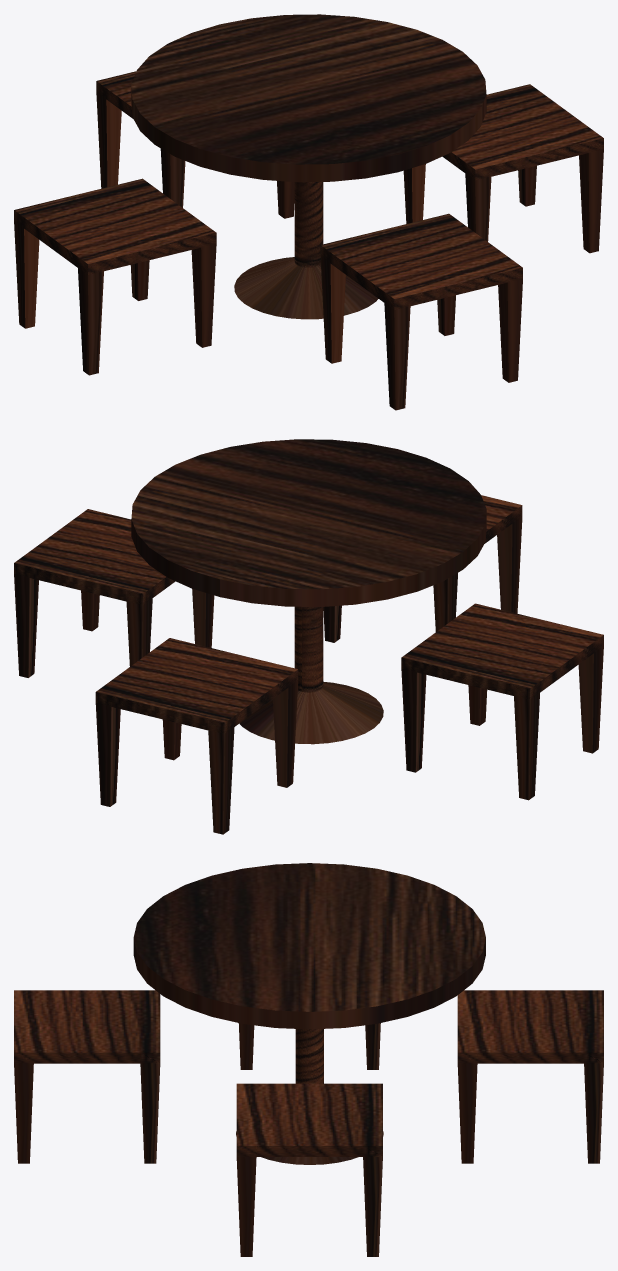
File: big table and small chair.fbx
The picture shows the model from 3 angles, top to bottom: view 1: azimuth 30°, elevation 25°; view 2: azimuth 150°, elevation 25°; view 3: azimuth 270°, elevation 25°; orthographic projection.
Parts seen in each view (by area): view 1: Cylinder, Cube.003, Cube, Cube.001, Cube.002; view 2: Cylinder, Cube.002, Cube, Cube.001, Cube.003; view 3: Cylinder, Cube.001, Cube.003, Cube.002, Cube.
Boxes of the visible parts, left/top/right/bottom form: Cylinder: left=131, top=14, right=486, bottom=319; Cube.003: left=320, top=213, right=522, bottom=410; Cube: left=14, top=178, right=216, bottom=375; Cube.001: left=403, top=84, right=603, bottom=253; Cube.002: left=96, top=71, right=294, bottom=218; Cylinder: left=131, top=439, right=486, bottom=744; Cube.002: left=95, top=638, right=298, bottom=834; Cube: left=401, top=603, right=603, bottom=800; Cube.001: left=14, top=509, right=214, bottom=677; Cube.003: left=323, top=495, right=522, bottom=642; Cylinder: left=133, top=863, right=485, bottom=1164; Cube.001: left=236, top=1083, right=382, bottom=1256; Cube.003: left=14, top=990, right=160, bottom=1163; Cube.002: left=457, top=990, right=603, bottom=1163; Cube: left=238, top=1023, right=380, bottom=1069.
Bounding box in the file's own units: 802 × 295 × 802.
1 material, 1 textured.
